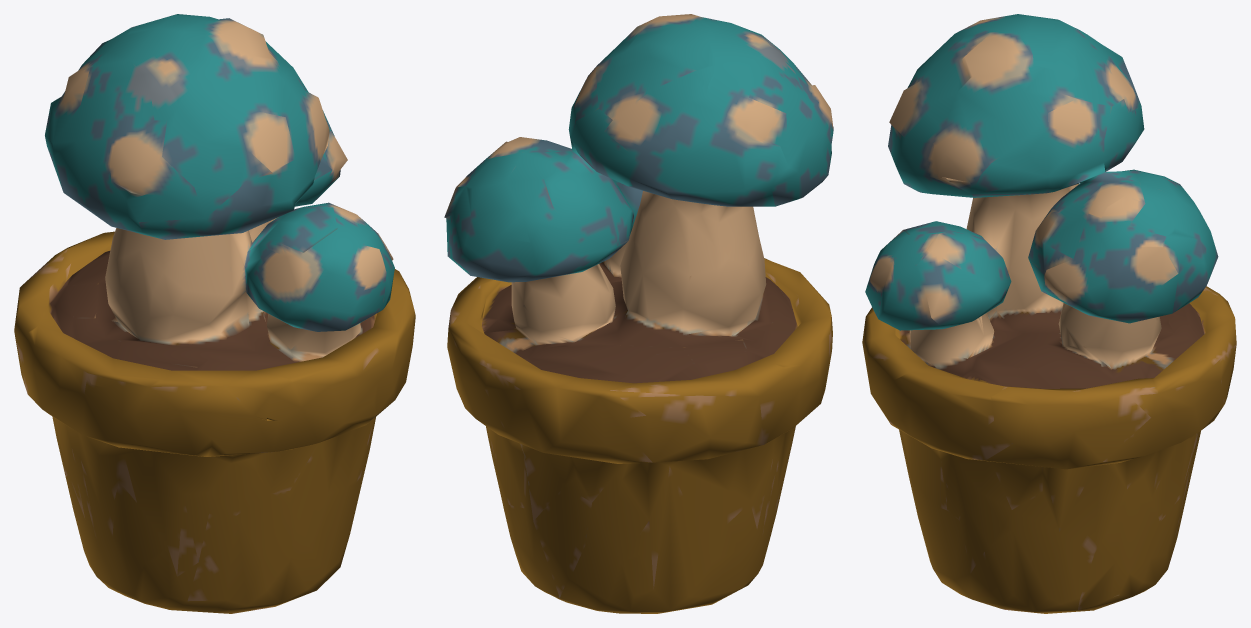
Rendered from f-glowshroom.glb.
The picture shows the model from 3 angles, left to right: view 1: azimuth 30°, elevation 25°; view 2: azimuth 150°, elevation 25°; view 3: azimuth 270°, elevation 25°; orthographic projection. The views are drawn at different scales.
Parts seen in each view (by area): view 1: tripo_node_c2a9bf41-8307-4d05-ba14-5c6c2921f5f9; view 2: tripo_node_c2a9bf41-8307-4d05-ba14-5c6c2921f5f9; view 3: tripo_node_c2a9bf41-8307-4d05-ba14-5c6c2921f5f9.
Part boxes in pixels (box(x1,y1,x2,y2)): tripo_node_c2a9bf41-8307-4d05-ba14-5c6c2921f5f9: box(14, 14, 415, 613); tripo_node_c2a9bf41-8307-4d05-ba14-5c6c2921f5f9: box(444, 14, 833, 613); tripo_node_c2a9bf41-8307-4d05-ba14-5c6c2921f5f9: box(862, 14, 1236, 613).
Bounding box in the file's own units: 0.6475 × 1 × 0.6474.
1 material, 1 textured.
